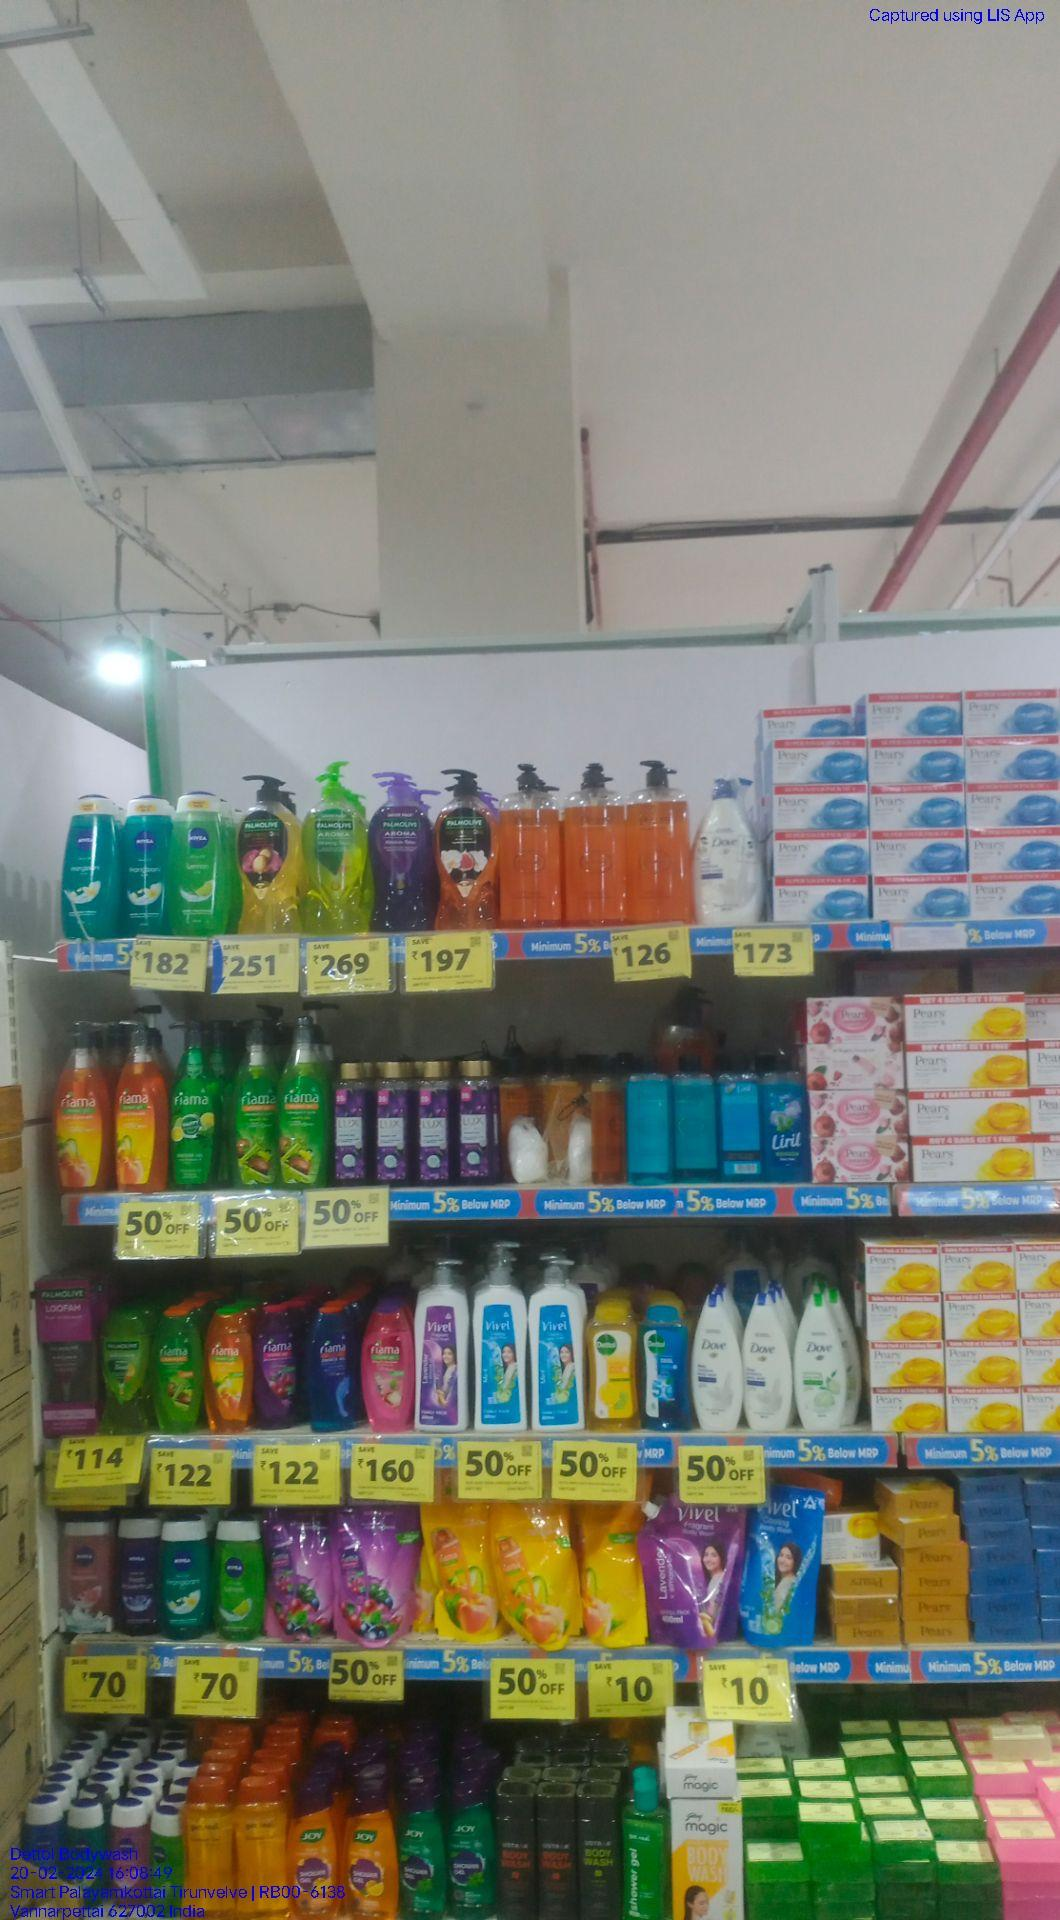Dettol_Bodywash_Cool: (642, 1304, 688, 1432)
Dettol_Bodywash_Refresh: (585, 1297, 641, 1432)
Dove_Deep_Moisture_Body_Wash_250ML: (743, 1290, 791, 1429), (692, 1290, 740, 1429)
Dove_Refreshing_Body_Wash_250ML: (795, 1292, 849, 1431)
Fiama_Shower_Gel_Lemongrass_and_Jojoba_250ML: (151, 1308, 204, 1433)
Fiama_Shower_Gel_Patchouli_and_Macadamia_250ML: (362, 1300, 413, 1433)
Fiama_Shower_Gel_Peach_and_Avocado_250ML: (206, 1305, 253, 1432)
Get_Real_Shower_Gel_Moisturising_Glycerin_300ML: (181, 1778, 238, 1920), (242, 1773, 290, 1920)
Joy_Shower_Gel_Mandarin_and_Lemongrass_250ML: (343, 1783, 398, 1920), (292, 1778, 339, 1920)
Joy_Shower_Gel_Mint_and_Eucalyptus_250ML: (450, 1786, 496, 1920), (402, 1787, 448, 1920)
Liril_Cooling_Mint_Body_Wash_250ML: (760, 1044, 808, 1181)
Lux_Black_Orchid_Scent_and_Juniper_Oil_Body_Wash_245ML: (454, 1057, 496, 1185), (372, 1061, 411, 1185), (416, 1059, 453, 1186), (333, 1061, 368, 1183)
Nivea_Shower_Gel_Frangipani_and_Oil_250ML: (63, 792, 120, 940), (161, 1514, 211, 1638), (123, 795, 166, 937)
Nivea_Shower_Gel_Fresh_Powerfruit_250ML: (117, 1517, 158, 1634)
Nivea_Shower_Gel_Lemon_and_Oil_250ML: (168, 792, 227, 935), (215, 1518, 266, 1642), (148, 1812, 180, 1920)
Nivea_Shower_Gel_Waterlily_and_Oil_250ML: (61, 1514, 114, 1629), (110, 1796, 145, 1904)
